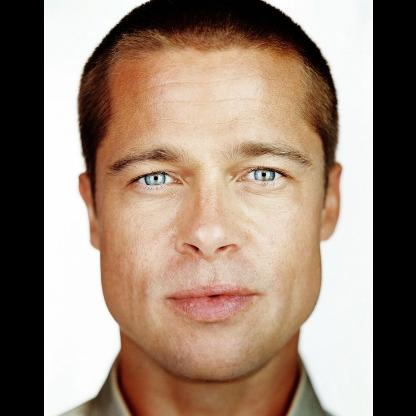Male: (75, 28, 342, 382)
